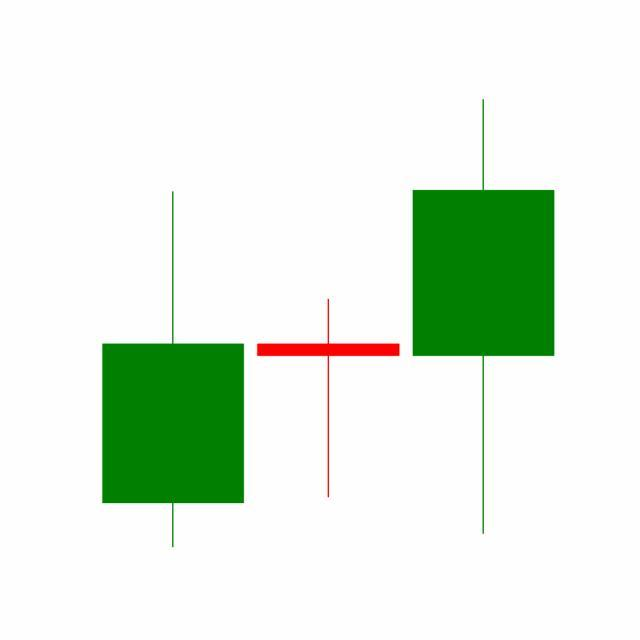Spinning Top: (250, 297, 407, 501)
